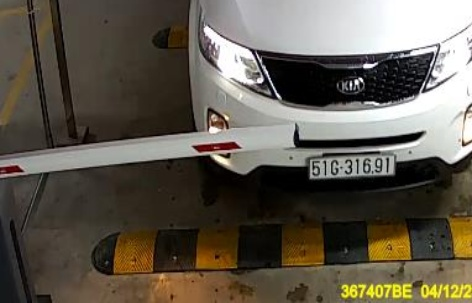plate: (308, 148, 396, 185)
